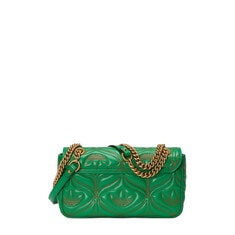Gucci: (54, 129, 194, 219)
